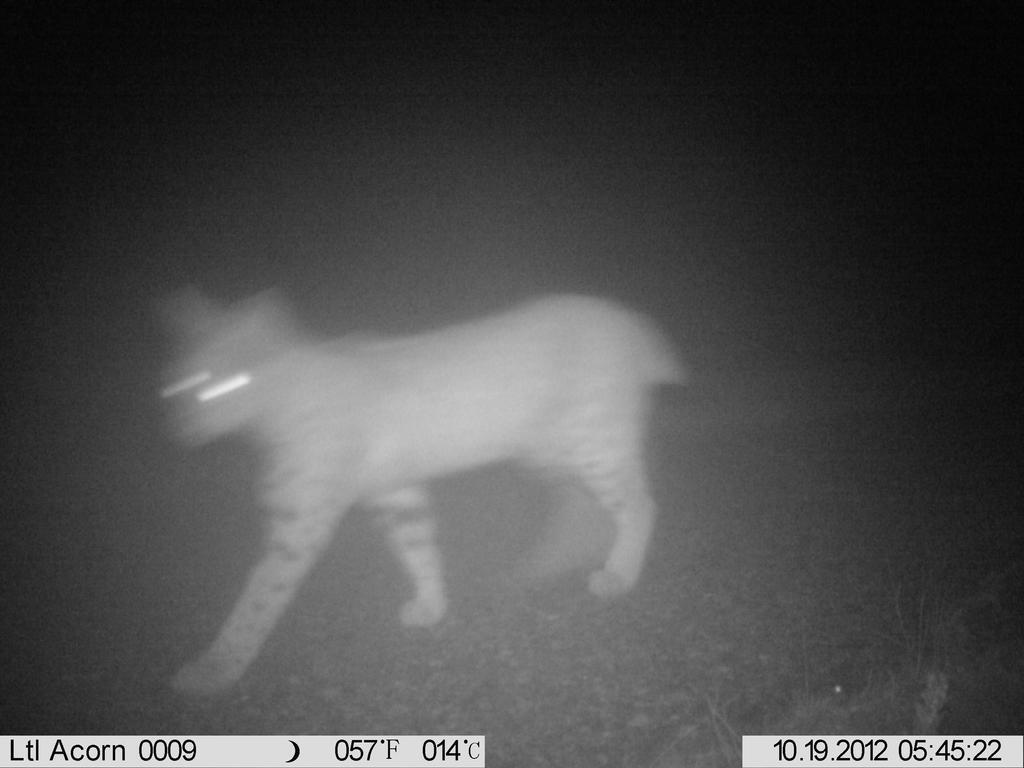bobcat: (122, 274, 698, 721)
